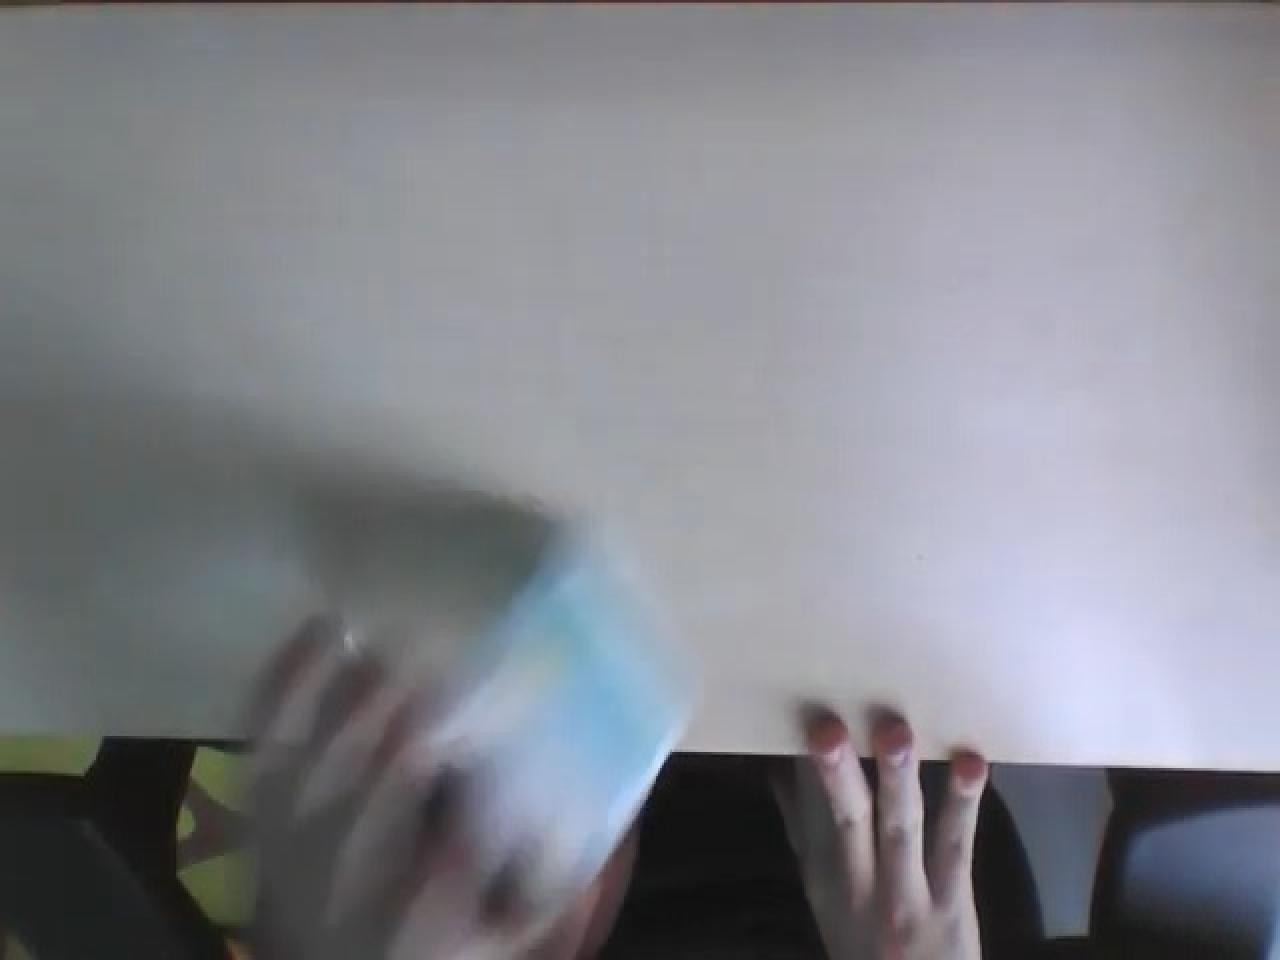100leva: (4, 8, 1278, 784)
